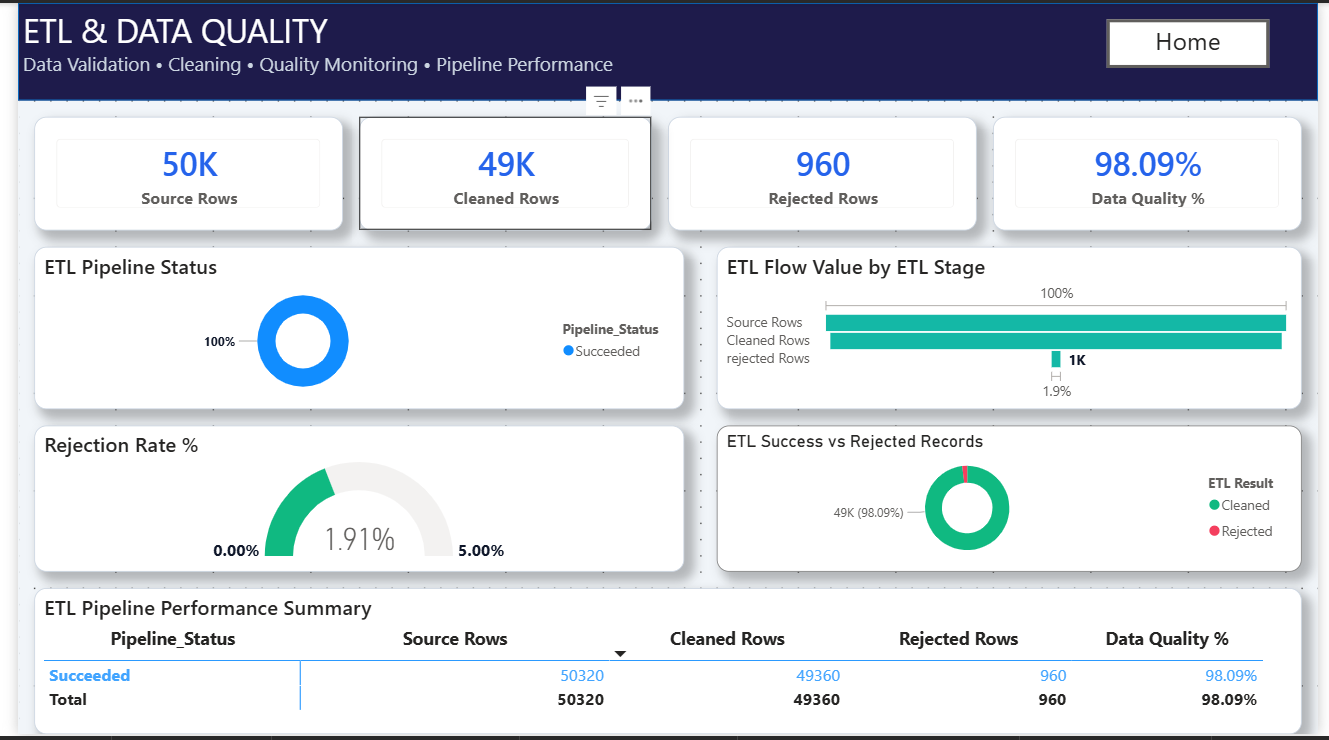

This screenshot's page, from the dashboard's own definition file:
{"tool":"powerbi","page":{"name":"ETL & Data Quality Analytics","canvas":[1280,720],"ordinal":6},"visuals":[{"type":"shape","box":[0,0,1280,96],"z":0},{"type":"textbox","box":[0,0,1280,96],"z":1000},{"type":"cardVisual","fields":{"Data":["healthcare_ai_etl etl_quality_log.Source Rows"]},"box":[16,112,304,112],"z":2000},{"type":"cardVisual","fields":{"Data":["healthcare_ai_etl etl_quality_log.Rejected Rows"]},"box":[640,112,304,112],"z":3000},{"type":"cardVisual","fields":{"Data":["healthcare_ai_etl etl_quality_log.Cleaned Rows"]},"box":[336,112,288,112],"z":4000},{"type":"cardVisual","fields":{"Data":["healthcare_ai_etl etl_quality_log.Data Quality %"]},"box":[960,112,304,112],"z":5000},{"type":"donutChart","title":"ETL Pipeline Status","fields":{"Category":["healthcare_ai_etl etl_quality_log.Pipeline_Status"],"Y":["CountNonNull(healthcare_ai_etl etl_quality_log.Pipeline_Status)"]},"box":[16,240,640,160],"z":6000},{"type":"funnel","fields":{"Category":["ETL Stage.ETL Stage"],"Y":["ETL Stage.ETL Flow Value"]},"box":[688,240,576,160],"z":7000},{"type":"gauge","fields":{"Y":["ETL Stage.Rejection Rate %"]},"box":[16,416,640,144],"z":8000},{"type":"donutChart","title":"ETL Success vs Rejected Records","fields":{"Category":["ETL Result.ETL Result"],"Y":["DQ Issues.ETL Result Count"]},"box":[688,416,576,144],"z":9000},{"type":"pivotTable","title":"ETL Pipeline Performance Summary","fields":{"Rows":["healthcare_ai_etl etl_quality_log.Pipeline_Status"],"Values":["healthcare_ai_etl etl_quality_log.Source Rows","healthcare_ai_etl etl_quality_log.Cleaned Rows","healthcare_ai_etl etl_quality_log.Rejected Rows","healthcare_ai_etl etl_quality_log.Data Quality %"]},"box":[16,576,1248,144],"z":10000},{"type":"textbox","box":[1072,16,160,48],"z":10001},{"type":"actionButton","box":[1072,16,160,48],"z":10002}]}

Visuals, with their boxes in screenshot pixels (x1, y1, x2, y2), scaled from the page's 1280x720 canvas onto the 1329x740 screenshot:
shape: Rect(0, 0, 1328, 99)
textbox: Rect(0, 0, 1328, 99)
cardVisual - healthcare_ai_etl etl_quality_log.Source Rows: Rect(17, 115, 332, 230)
cardVisual - healthcare_ai_etl etl_quality_log.Rejected Rows: Rect(664, 115, 980, 230)
cardVisual - healthcare_ai_etl etl_quality_log.Cleaned Rows: Rect(349, 115, 648, 230)
cardVisual - healthcare_ai_etl etl_quality_log.Data Quality %: Rect(997, 115, 1312, 230)
"ETL Pipeline Status" donutChart: Rect(17, 247, 681, 411)
funnel - ETL Stage.ETL Stage x ETL Stage.ETL Flow Value: Rect(714, 247, 1312, 411)
gauge - ETL Stage.Rejection Rate %: Rect(17, 428, 681, 576)
"ETL Success vs Rejected Records" donutChart: Rect(714, 428, 1312, 576)
"ETL Pipeline Performance Summary" pivotTable: Rect(17, 592, 1312, 739)
textbox: Rect(1113, 16, 1279, 66)
actionButton: Rect(1113, 16, 1279, 66)
